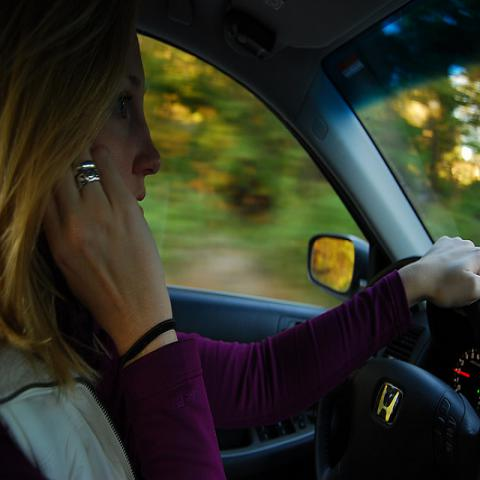car: (137, 0, 479, 477)
